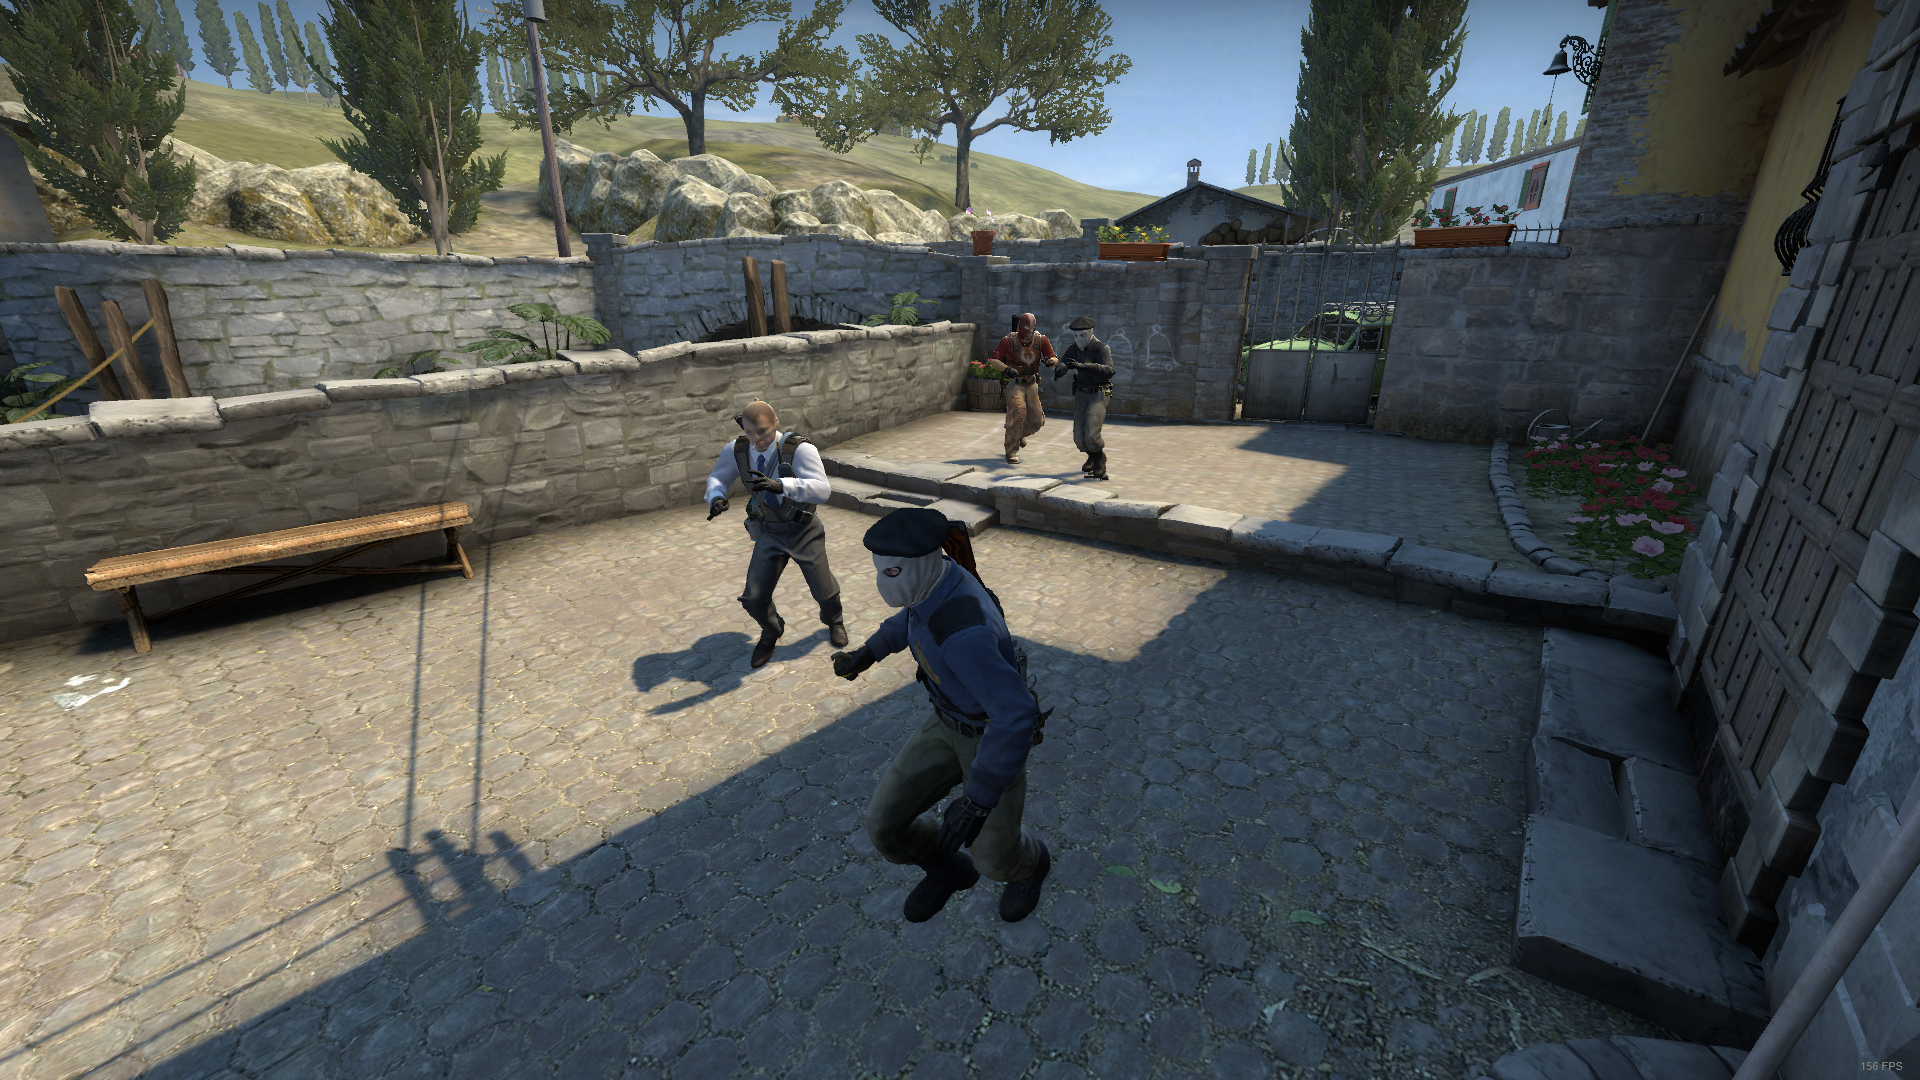t: (827, 508, 1065, 934), (1050, 319, 1121, 488)
